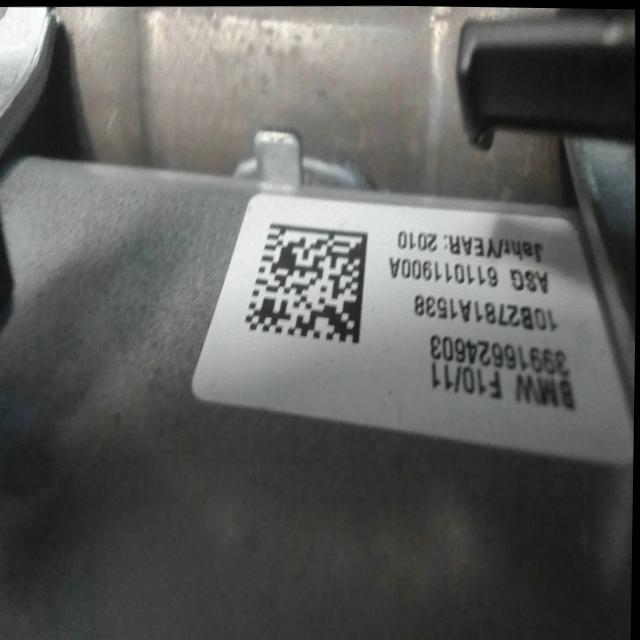datamatrix: (244, 220, 370, 344)
